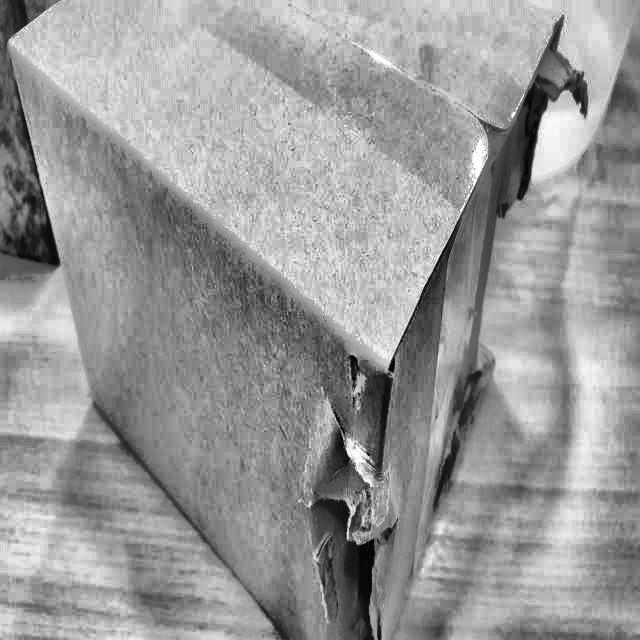box: (1, 0, 575, 640)
hole: (312, 488, 400, 640)
